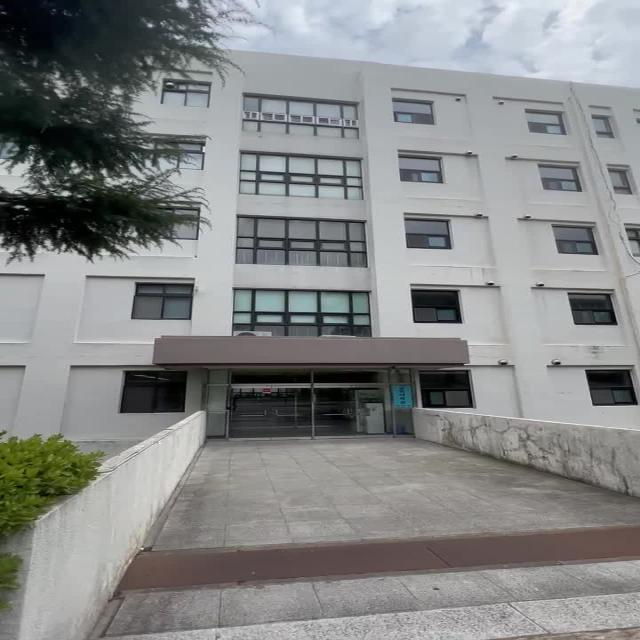building: (178, 70, 640, 427)
